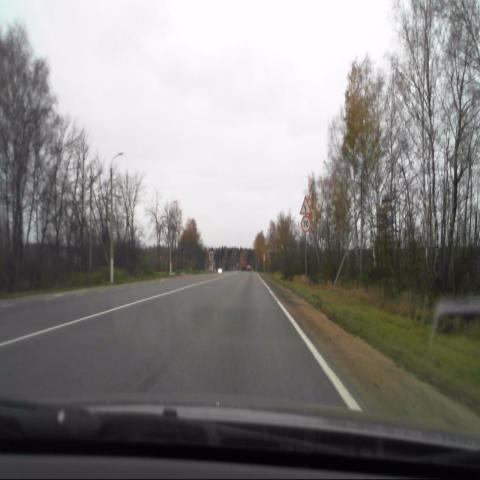1_11_1: (299, 194, 311, 214)
